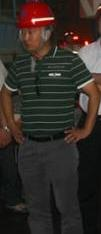hard-hat: (16, 0, 55, 28)
